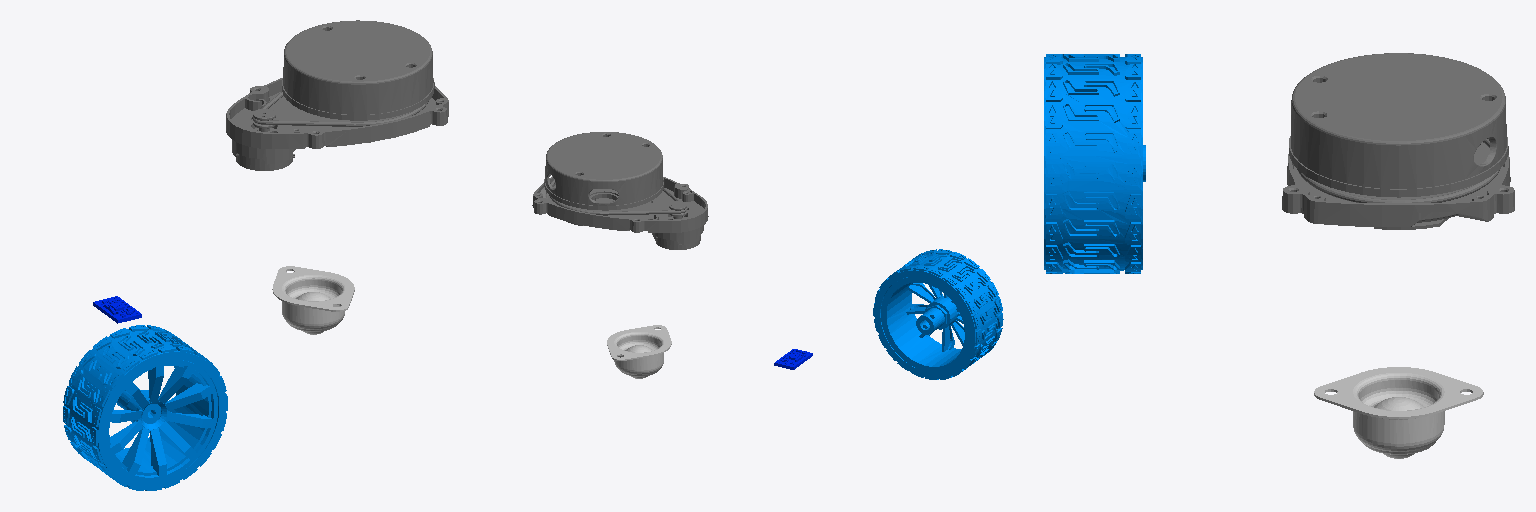
The robot description file, URDF, robot "lidar_diffbot_urdf":
<?xml version="1.0" encoding="utf-8"?>
<!-- This URDF was automatically created by SolidWorks to URDF Exporter! Originally created by Stephen Brawner (brawner@gmail.com) 
     Commit Version: 1.6.0-4-g7f85cfe  Build Version: 1.6.7995.38578
     For more information, please see http://wiki.ros.org/sw_urdf_exporter -->
<robot
  name="lidar_diffbot_urdf">
  <link
    name="base_footprint" />
  <joint
    name="base_footprint_joint"
    type="fixed">
    <origin
      xyz="0 0 0.0341"
      rpy="0 0 0" />
    <parent
      link="base_footprint" />
    <child
      link="base_link" />
  </joint>
  <link
    name="base_link">
    <inertial>
      <origin
        xyz="0.042789 0.0005253 0.036905"
        rpy="0 0 0" />
      <mass
        value="1.9116" />
      <inertia
        ixx="0.0067179"
        ixy="-1.6428E-05"
        ixz="0.00010545"
        iyy="0.006341"
        iyz="8.5911E-06"
        izz="0.01183" />
    </inertial>
    <visual>
      <origin
        xyz="0 0 0"
        rpy="0 0 0" />
      <geometry>
        <mesh
          filename="package://lidar_diffbot/meshes/visual/base_link.STL" />
      </geometry>
      <material
        name="">
        <color
          rgba="1 1 1 1" />
      </material>
    </visual>
    <collision>
      <origin
        xyz="0 0 0"
        rpy="0 0 0" />
      <geometry>
        <mesh
          filename="package://lidar_diffbot/meshes/visual/base_link.STL" />
      </geometry>
    </collision>
  </link>
  <link
    name="left_wheel_link">
    <inertial>
      <origin
        xyz="0.00039205 2.6528E-06 -8.9504E-06"
        rpy="0 0 0" />
      <mass
        value="0.079032" />
      <inertia
        ixx="2.8217E-05"
        ixy="-3.5283E-09"
        ixz="-2.6266E-10"
        iyy="2.8184E-05"
        iyz="1.044E-10"
        izz="4.608E-05" />
    </inertial>
    <visual>
      <origin
        xyz="0 0 0"
        rpy="0 0 0" />
      <geometry>
        <mesh
          filename="package://lidar_diffbot/meshes/visual/left_wheel_link.STL" />
      </geometry>
      <material
        name="">
        <color
          rgba="0 0.6 1 1" />
      </material>
    </visual>
    <collision>
      <origin
        xyz="0 0 0"
        rpy="0 0 0" />
      <geometry>
        <mesh
          filename="package://lidar_diffbot/meshes/visual/left_wheel_link.STL" />
      </geometry>
    </collision>
  </link>
  <joint
    name="left_wheel_joint"
    type="continuous">
    <origin
      xyz="0 0.09 0"
      rpy="-1.5708 0 0" />
    <parent
      link="base_link" />
    <child
      link="left_wheel_link" />
    <axis
      xyz="0 0 1" />
    <dynamics
      damping="0.1"
      friction="0.1" />
  </joint>
  <link
    name="right_wheel_link">
    <inertial>
      <origin
        xyz="0.00045037 1.7012E-06 8.9504E-06"
        rpy="0 0 0" />
      <mass
        value="0.079032" />
      <inertia
        ixx="2.8217E-05"
        ixy="2.4639E-09"
        ixz="-2.6593E-10"
        iyy="2.8184E-05"
        iyz="-9.5774E-11"
        izz="4.608E-05" />
    </inertial>
    <visual>
      <origin
        xyz="0 0 0"
        rpy="0 0 0" />
      <geometry>
        <mesh
          filename="package://lidar_diffbot/meshes/visual/right_wheel_link.STL" />
      </geometry>
      <material
        name="">
        <color
          rgba="0 0.6 1 1" />
      </material>
    </visual>
    <collision>
      <origin
        xyz="0 0 0"
        rpy="0 0 0" />
      <geometry>
        <mesh
          filename="package://lidar_diffbot/meshes/visual/right_wheel_link.STL" />
      </geometry>
    </collision>
  </link>
  <joint
    name="right_wheel_joint"
    type="continuous">
    <origin
      xyz="0 -0.09 0"
      rpy="-1.5708 0 0" />
    <parent
      link="base_link" />
    <child
      link="right_wheel_link" />
    <axis
      xyz="0 0 1" />
    <dynamics
      damping="0.1"
      friction="0.1" />
  </joint>
  <link
    name="caster_wheel_link">
    <inertial>
      <origin
        xyz="-8.3262E-09 -1.4283E-08 0.0036702"
        rpy="0 0 0" />
      <mass
        value="0.0070691" />
      <inertia
        ixx="5.0192E-07"
        ixy="1.367E-12"
        ixz="1.3539E-13"
        iyy="4.5156E-07"
        iyz="1.5417E-13"
        izz="7.136E-07" />
    </inertial>
    <visual>
      <origin
        xyz="0 0 0"
        rpy="0 0 0" />
      <geometry>
        <mesh
          filename="package://lidar_diffbot/meshes/visual/caster_wheel_link.STL" />
      </geometry>
      <material
        name="">
        <color
          rgba="0.79608 0.79608 0.79608 1" />
      </material>
    </visual>
    <collision>
      <origin
        xyz="0 0 0"
        rpy="0 0 0" />
      <geometry>
        <mesh
          filename="package://lidar_diffbot/meshes/visual/caster_wheel_link.STL" />
      </geometry>
    </collision>
  </link>
  <joint
    name="caster_wheel_joint"
    type="fixed">
    <origin
      xyz="0.135 0 -0.024563"
      rpy="0 0 0" />
    <parent
      link="base_link" />
    <child
      link="caster_wheel_link" />
    <axis
      xyz="0 0 0" />
    <dynamics
      damping="0.1"
      friction="0.1" />
  </joint>
  <link
    name="imu_link">
    <inertial>
      <origin
        xyz="0.00023321 -9.8399E-05 -0.00070186"
        rpy="0 0 0" />
      <mass
        value="0.00046281" />
      <inertia
        ixx="1.5422E-08"
        ixy="3.273E-14"
        ixz="1.9001E-15"
        iyy="4.9552E-09"
        iyz="-2.2747E-13"
        izz="2.0169E-08" />
    </inertial>
    <visual>
      <origin
        xyz="0 0 0"
        rpy="0 0 0" />
      <geometry>
        <mesh
          filename="package://lidar_diffbot/meshes/visual/imu_link.STL" />
      </geometry>
      <material
        name="">
        <color
          rgba="0 0.2 1 1" />
      </material>
    </visual>
    <collision>
      <origin
        xyz="0 0 0"
        rpy="0 0 0" />
      <geometry>
        <mesh
          filename="package://lidar_diffbot/meshes/visual/imu_link.STL" />
      </geometry>
    </collision>
  </link>
  <joint
    name="imu_joint"
    type="fixed">
    <origin
      xyz="0.03828 0 0.0016986"
      rpy="0 0 0" />
    <parent
      link="base_link" />
    <child
      link="imu_link" />
    <axis
      xyz="0 0 0" />
    <dynamics
      damping="0.1"
      friction="0.1" />
  </joint>
  <link
    name="lidar_link">
    <inertial>
      <origin
        xyz="0 0 0"
        rpy="0 0 0" />
      <mass
        value="0.1" />
      <inertia
        ixx="0"
        ixy="0"
        ixz="0"
        iyy="0"
        iyz="0"
        izz="0" />
    </inertial>
    <visual>
      <origin
        xyz="0 0 0"
        rpy="0 0 0" />
      <geometry>
        <mesh
          filename="package://lidar_diffbot/meshes/visual/lidar_link.STL" />
      </geometry>
      <material
        name="">
        <color
          rgba="0.5 0.5 0.5 1" />
      </material>
    </visual>
    <collision>
      <origin
        xyz="0 0 0"
        rpy="0 0 0" />
      <geometry>
        <mesh
          filename="package://lidar_diffbot/meshes/visual/lidar_link.STL" />
      </geometry>
    </collision>
  </link>
  <joint
    name="lidar_joint"
    type="fixed">
    <origin
      xyz="0.156859903502095 -4.09045498450007E-05 0.085051884899403"
      rpy="0 0 0" />
    <parent
      link="base_link" />
    <child
      link="lidar_link" />
    <axis
      xyz="0 0 0" />
    <dynamics
      damping="0.1"
      friction="0.1" />
  </joint>
</robot>

--- Facts derived from the render (not from the file) ---
The picture shows the robot from 3 angles, left to right: view 1: azimuth 30°, elevation 25°; view 2: azimuth 150°, elevation 25°; view 3: azimuth 270°, elevation 25°; orthographic projection.
Robot: lidar_diffbot_urdf — 7 links, 6 joints (2 continuous, 4 fixed); root link base_footprint; default pose: every joint at zero.
Links seen in each view (by area): view 1: lidar_link, right_wheel_link, caster_wheel_link, imu_link; view 2: lidar_link, right_wheel_link, caster_wheel_link; view 3: lidar_link, right_wheel_link, caster_wheel_link.
Boxes of the visible links, x1=… form: lidar_link: x1=226, y1=20, x2=448, y2=170; right_wheel_link: x1=63, y1=325, x2=227, y2=490; caster_wheel_link: x1=272, y1=266, x2=354, y2=334; imu_link: x1=93, y1=296, x2=141, y2=323; lidar_link: x1=532, y1=132, x2=708, y2=249; right_wheel_link: x1=873, y1=249, x2=1003, y2=379; caster_wheel_link: x1=607, y1=325, x2=671, y2=378; lidar_link: x1=1282, y1=53, x2=1514, y2=229; right_wheel_link: x1=1044, y1=54, x2=1145, y2=273; caster_wheel_link: x1=1314, y1=367, x2=1483, y2=458.
Bounding box of the posed robot: 0.2219 × 0.1389 × 0.1271 m (x, y, z).
4 mesh visuals loaded from 6 distinct referenced files (4 binary STL); not drawn: 2 (reference not matched to a file when rendering).
